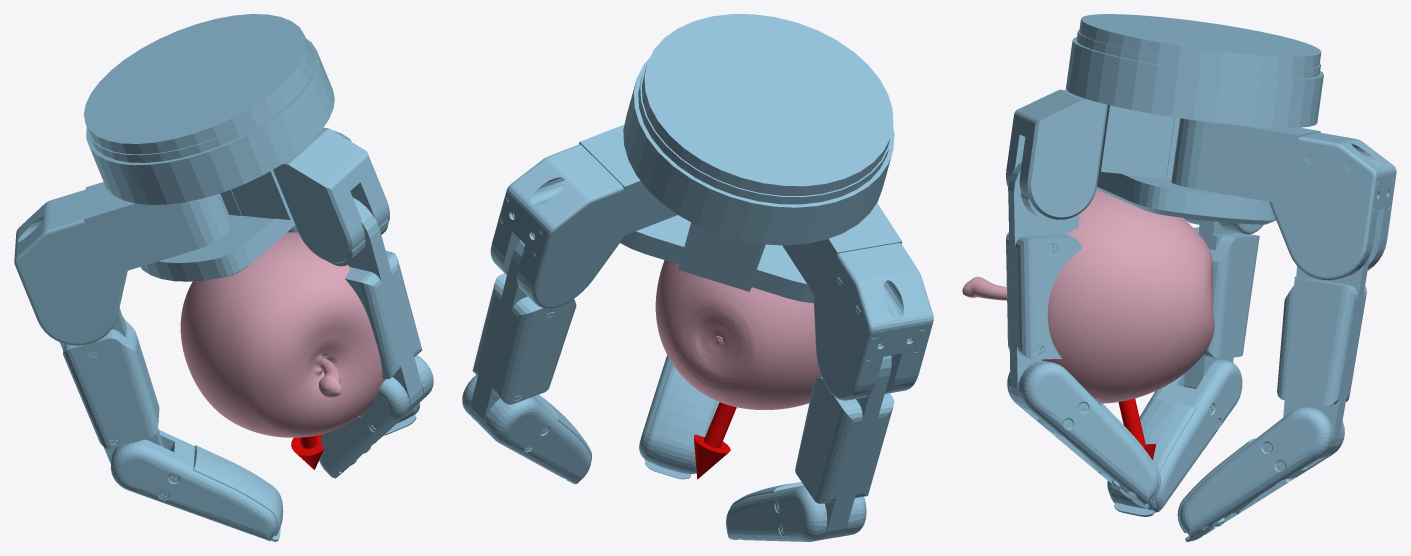
3 views of the same model, side by side, from view 1: azimuth 30°, elevation 25°; view 2: azimuth 150°, elevation 25°; view 3: azimuth 270°, elevation 25° (orthographic). The views are drawn at different scales.
Parts seen in each view (by area): view 1: world, apple.stl; view 2: world, apple.stl; view 3: world, apple.stl.
Part boxes in pixels (x1,y1,x2,y2): world: (14,14,433,541); apple.stl: (180,232,385,437); world: (462,14,933,541); apple.stl: (655,260,821,409); world: (1006,14,1396,541); apple.stl: (962,189,1214,403).
Bounding box in the file's own units: 0.1632 × 0.1902 × 0.152.
